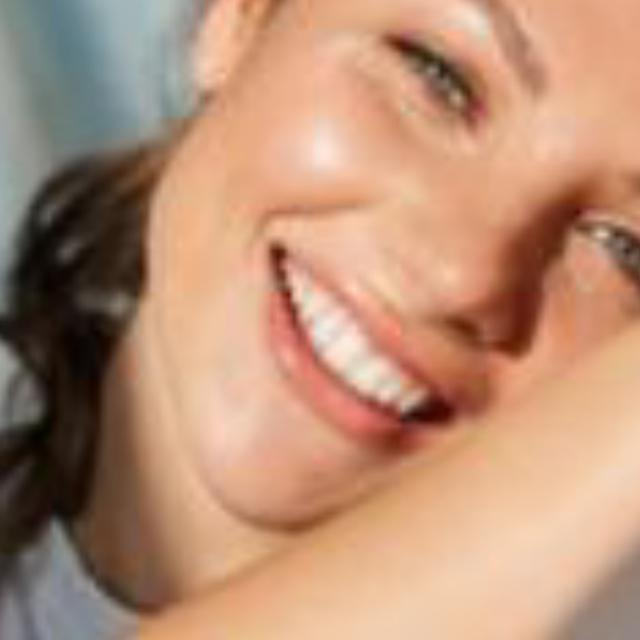Happy: (88, 0, 640, 544)
